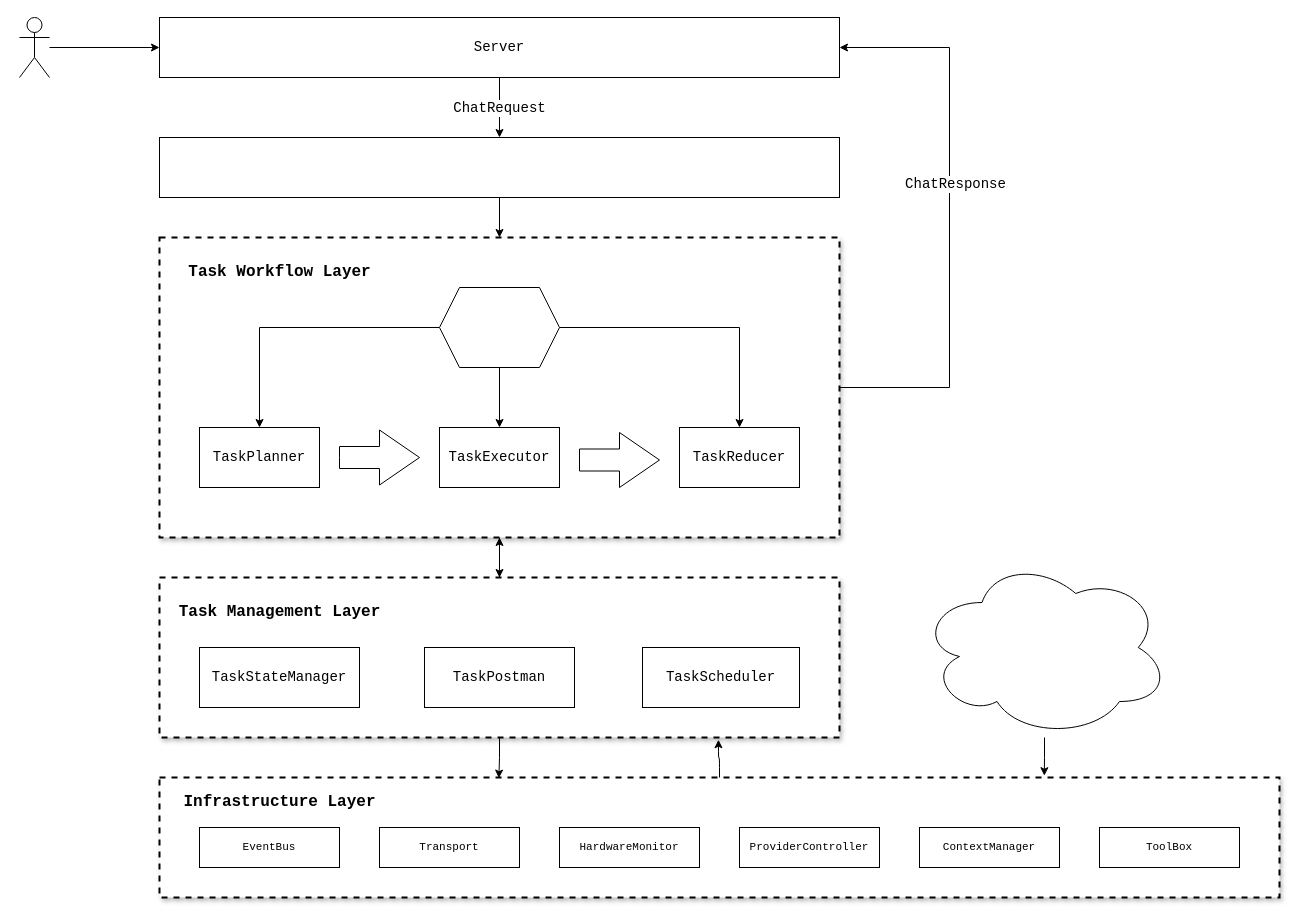
Some shapes in this 1304 by 923 pixel diagram are drawn without their labels. Here are the shapes that lost their labels. From the top down, the centre of each, then its label:
the point at 34,47: User
the point at 499,167: TaskWrapper
the point at 499,327: TaskBoard
the point at 1044,647: Cloud Service Provider
